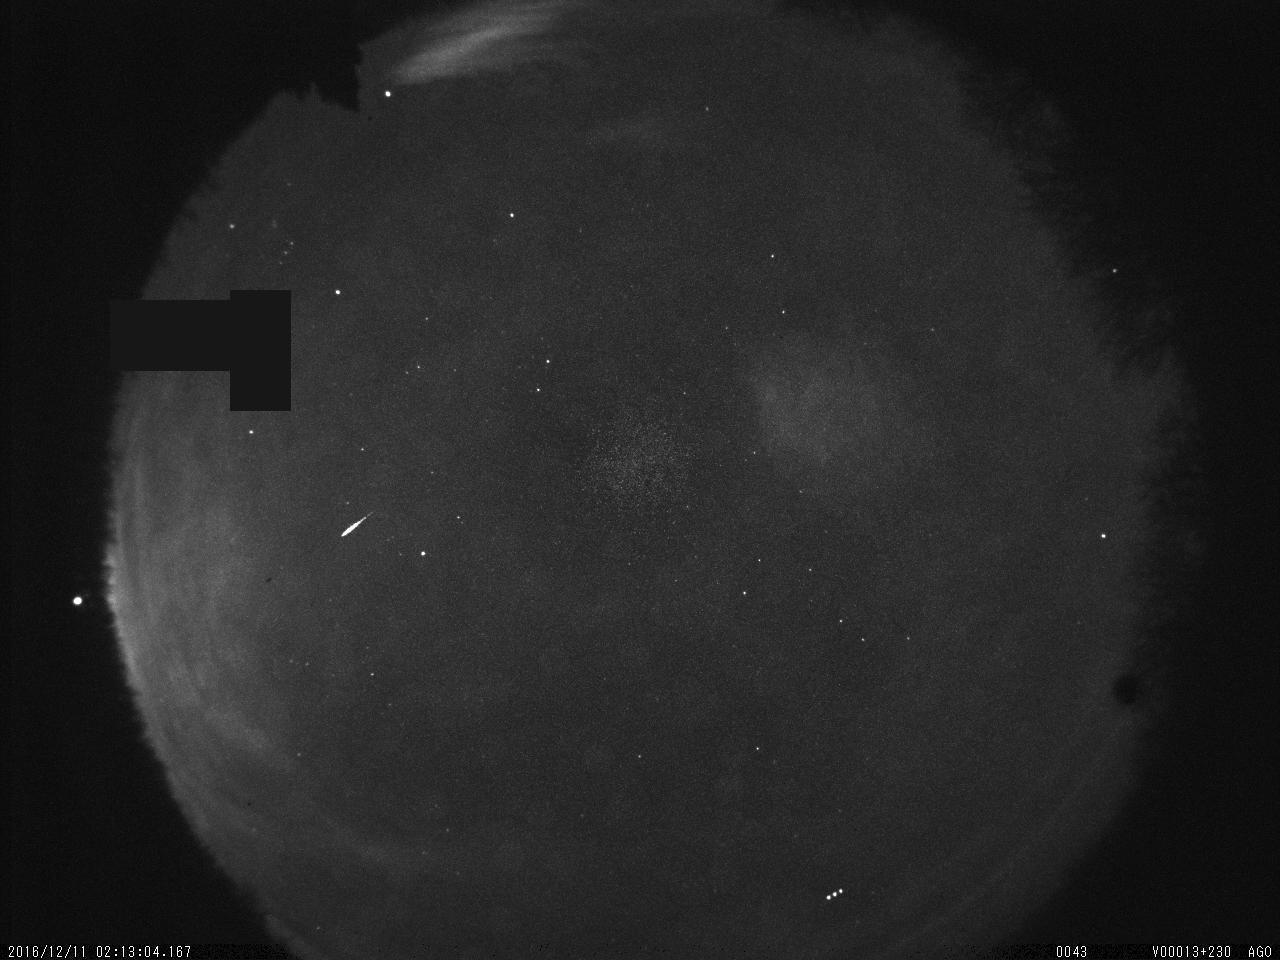Meteor: (333, 504, 378, 548)
